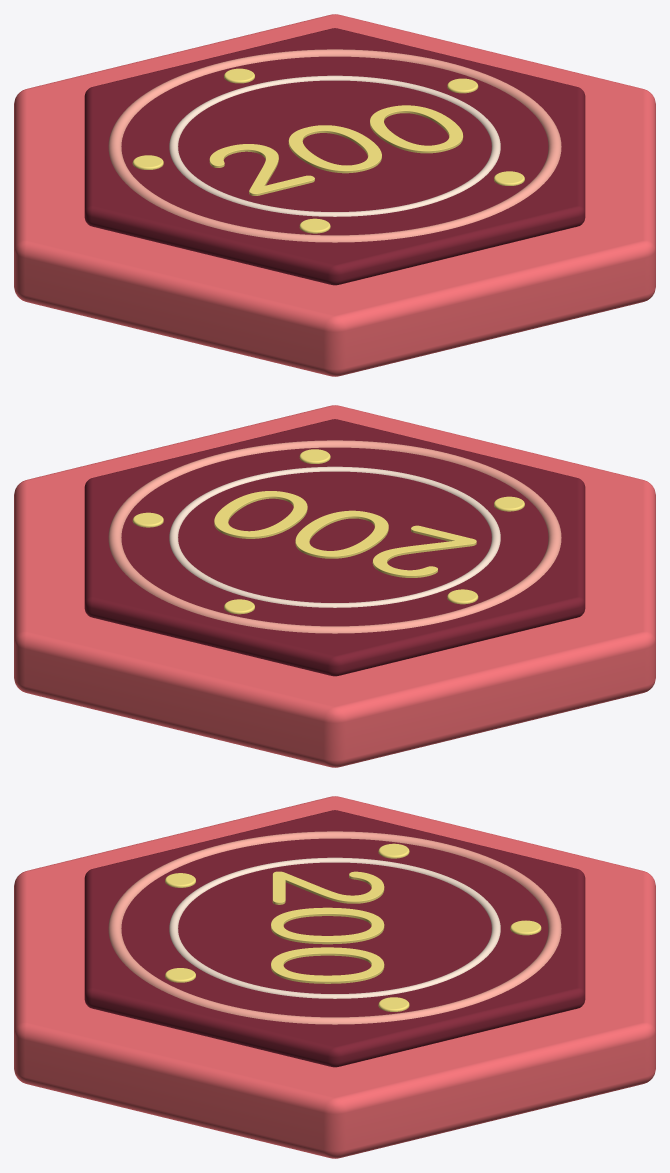
Rendered from achievement_workout_200.glb.
3 renders of one model, top to bottom at view 1: azimuth 30°, elevation 25°; view 2: azimuth 150°, elevation 25°; view 3: azimuth 270°, elevation 25°, orthographic.
Parts seen in each view (by area): view 1: colored hex milestone border, inset enamel hex face, inner milestone ring, imprinted 200 workout count, milestone highlight ring; view 2: colored hex milestone border, inset enamel hex face, inner milestone ring, imprinted 200 workout count, milestone highlight ring; view 3: colored hex milestone border, inset enamel hex face, inner milestone ring, imprinted 200 workout count, milestone highlight ring.
Part boxes in pixels (left/top/right/bottom): colored hex milestone border: left=14, top=14, right=655, bottom=376; inset enamel hex face: left=84, top=28, right=585, bottom=285; inner milestone ring: left=108, top=49, right=561, bottom=242; imprinted 200 workout count: left=209, top=105, right=463, bottom=195; milestone highlight ring: left=169, top=75, right=500, bottom=216; colored hex milestone border: left=14, top=405, right=655, bottom=767; inset enamel hex face: left=84, top=419, right=585, bottom=676; inner milestone ring: left=108, top=440, right=561, bottom=633; imprinted 200 workout count: left=214, top=491, right=476, bottom=577; milestone highlight ring: left=169, top=466, right=500, bottom=607; colored hex milestone border: left=14, top=796, right=655, bottom=1158; inset enamel hex face: left=84, top=810, right=585, bottom=1067; inner milestone ring: left=108, top=831, right=561, bottom=1024; imprinted 200 workout count: left=271, top=871, right=384, bottom=983; milestone highlight ring: left=169, top=857, right=500, bottom=998.
Size of the model in its own units: 1.98 by 0.246 by 1.73.
